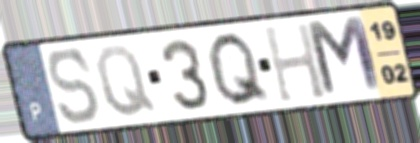3: (158, 36, 212, 112)
H: (260, 20, 329, 105)
M: (302, 13, 387, 101)
Q: (204, 29, 274, 109), (92, 43, 160, 120)
S: (45, 45, 104, 128)
